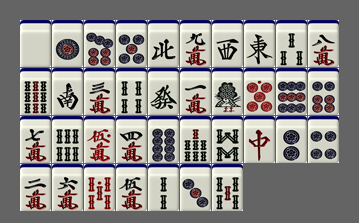0m: (84, 116, 115, 163)
0p: (244, 68, 275, 115)
0s: (84, 164, 115, 211)
1m: (180, 68, 211, 115)
1p: (52, 20, 83, 67)
1s: (212, 68, 243, 115)
1z: (244, 20, 275, 67)
2m: (20, 164, 51, 211)
2p: (276, 116, 307, 163)
2s: (148, 164, 179, 211)
2z: (52, 68, 83, 115)
3m: (84, 68, 115, 115)
3p: (180, 164, 211, 211)
3s: (276, 20, 307, 67)
3z: (212, 20, 243, 67)
4m: (116, 116, 147, 163)
4p: (308, 116, 339, 163)
4s: (116, 68, 147, 115)
4z: (148, 20, 179, 67)
5m: (116, 164, 147, 211)
5p: (116, 20, 147, 67)
5s: (212, 164, 243, 211)
5z: (20, 20, 51, 67)
6m: (52, 164, 83, 211)
6p: (308, 68, 339, 115)
6s: (52, 116, 83, 163)
6z: (148, 68, 179, 115)
7m: (20, 116, 51, 163)
7p: (84, 20, 115, 67)
7s: (180, 116, 211, 163)
7z: (244, 116, 275, 163)
8m: (308, 20, 339, 67)
8p: (148, 116, 179, 163)
8s: (212, 116, 243, 163)
9m: (180, 20, 211, 67)
9p: (276, 68, 307, 115)
9s: (20, 68, 51, 115)
